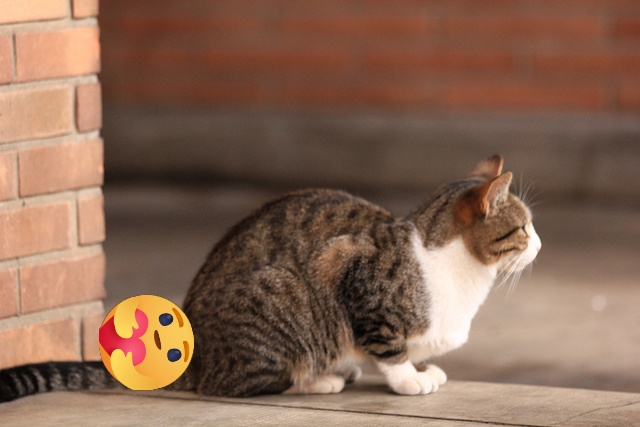care: (99, 295, 194, 390)
